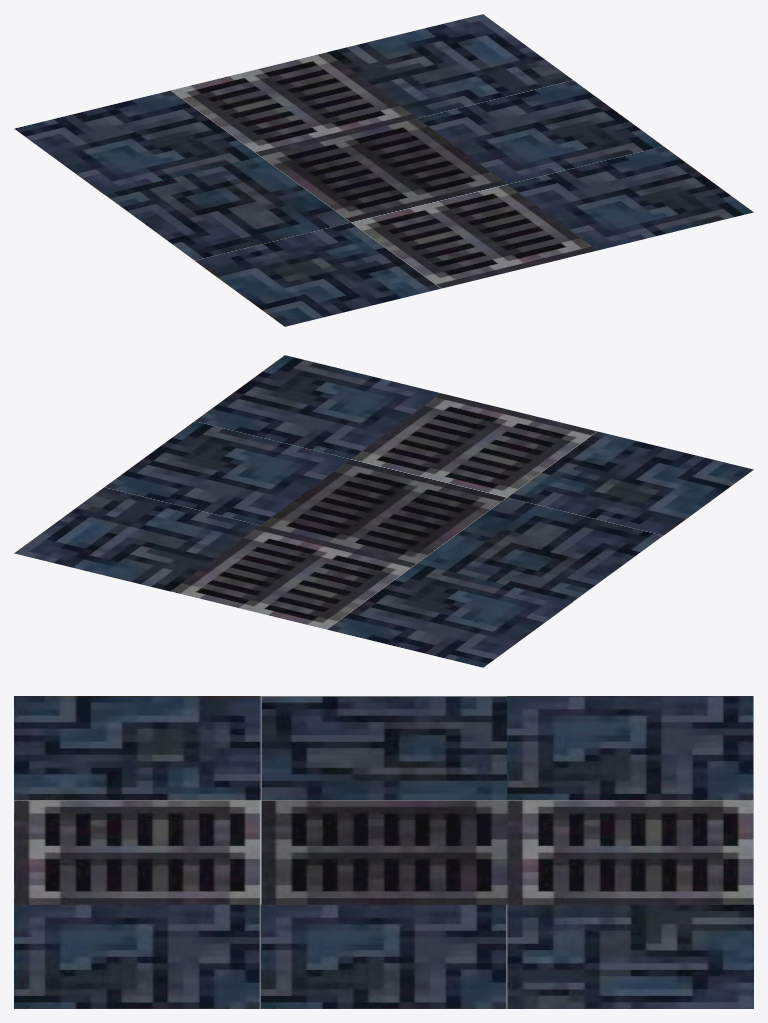
File: ground_3x3_D.fbx
3 renders of one model, top to bottom at view 1: azimuth 30°, elevation 25°; view 2: azimuth 150°, elevation 25°; view 3: azimuth 270°, elevation 25°, orthographic. The views are drawn at different scales.
Parts seen in each view (by area): view 1: Ground_3x3_D; view 2: Ground_3x3_D; view 3: Ground_3x3_D.
Part boxes in pixels (<box>): Ground_3x3_D: <box>14,14,753,326</box>; Ground_3x3_D: <box>14,355,753,667</box>; Ground_3x3_D: <box>14,696,753,1008</box>.
Bounding box in the file's own units: 300 × 7.07e-05 × 300.
